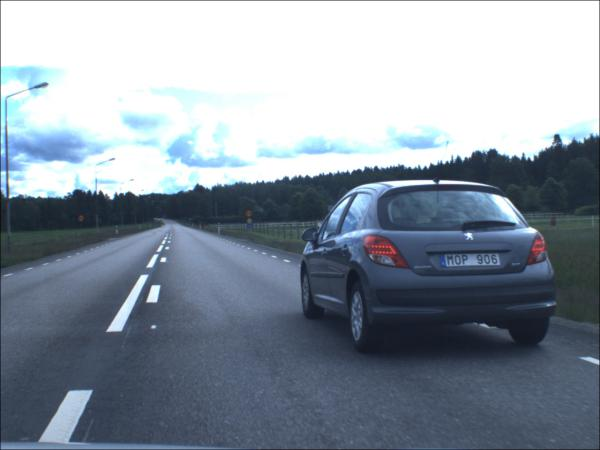80_SIGN: (246, 210, 254, 219), (78, 216, 86, 224)
PRIORITY_ROAD: (247, 220, 254, 225)
